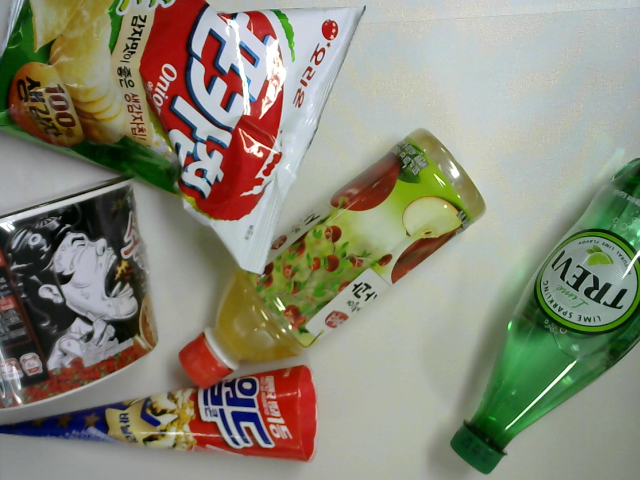HeJangsock: (1, 166, 169, 415)
Morning_Apple_500ml: (173, 122, 493, 401)
Pocachip_Onion: (1, 2, 373, 283)
Treviraim_500ml: (444, 151, 640, 476)
World_Cone_Banila: (1, 357, 322, 465)
